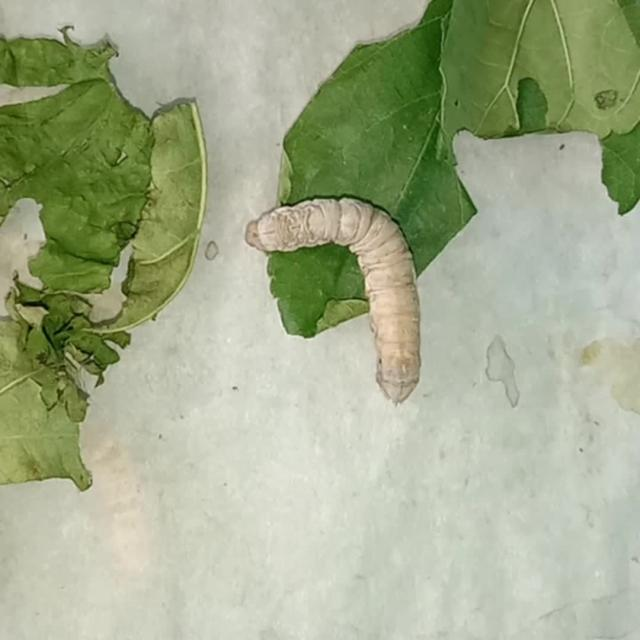Grasserie: (236, 165, 465, 439)
